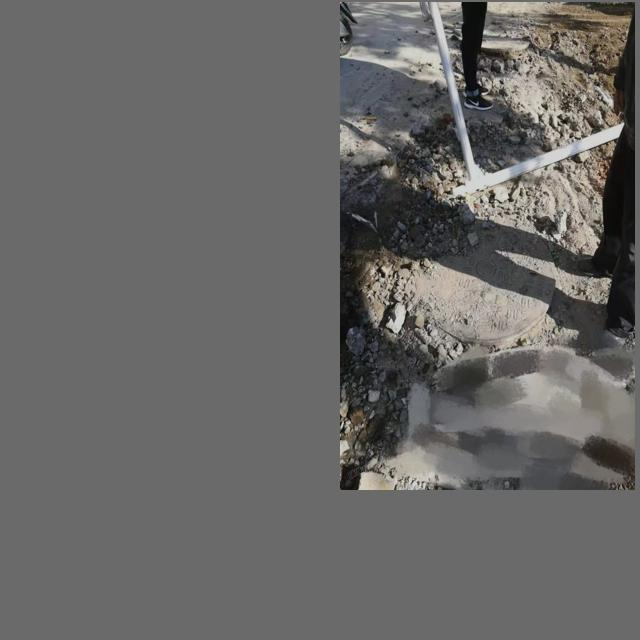circle: (389, 214, 575, 369)
